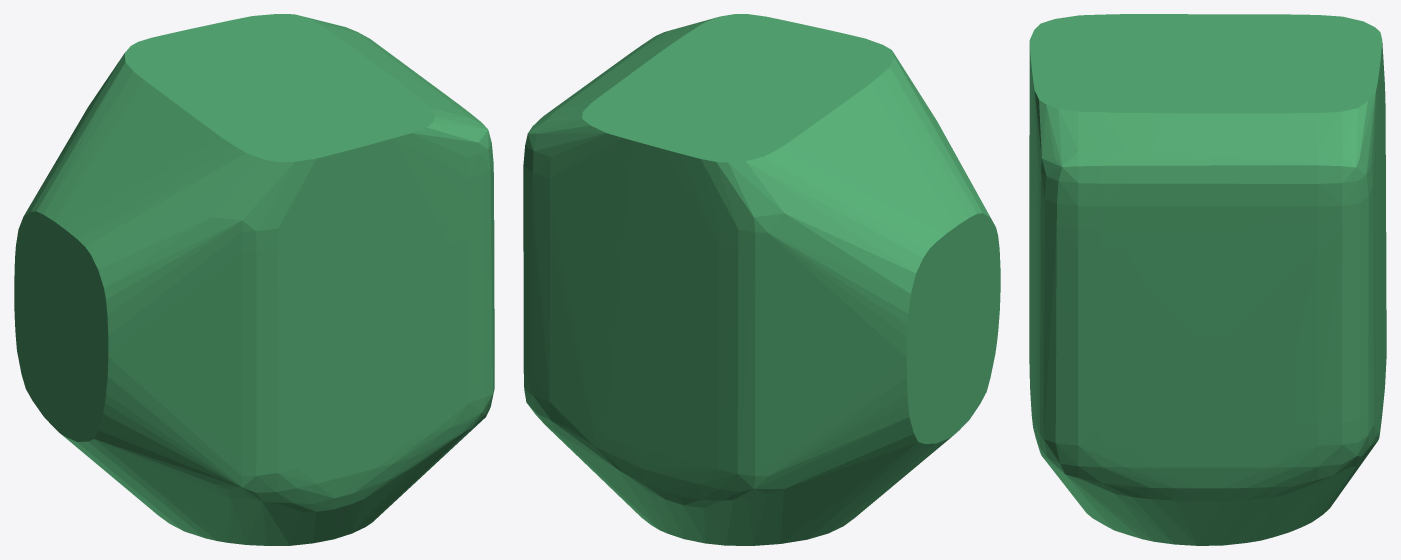
3 views of the same model, side by side, from view 1: azimuth 30°, elevation 25°; view 2: azimuth 150°, elevation 25°; view 3: azimuth 270°, elevation 25° (orthographic). The views are drawn at different scales.
Size of the model in its own units: 0.0368 by 0.0389 by 0.029.
